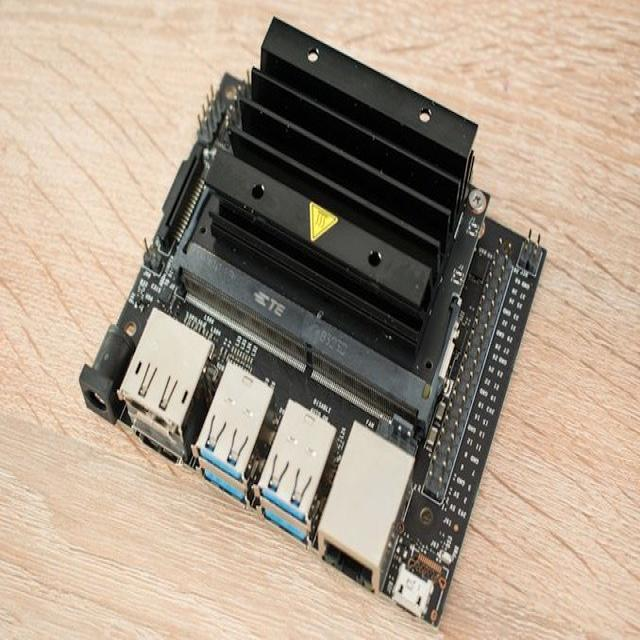Jetson Nano: (77, 18, 550, 630)
